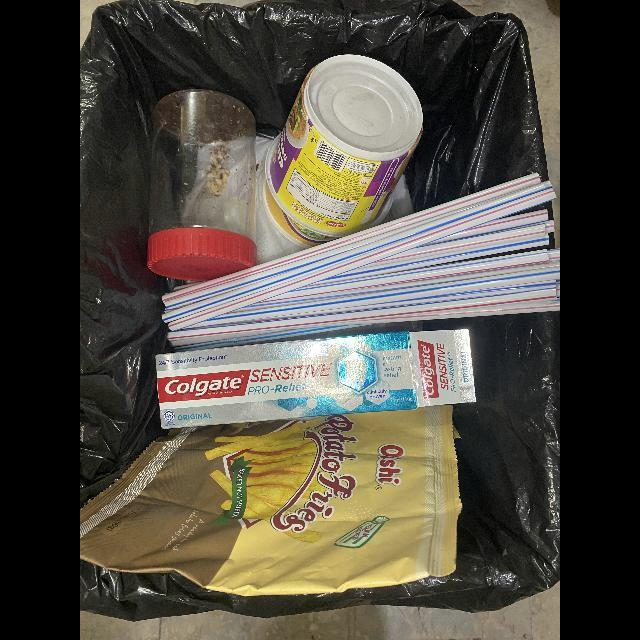cardboard: (156, 329, 477, 429)
food_wrapper: (80, 405, 463, 597)
plastic_container: (263, 55, 423, 248), (147, 89, 257, 283)
